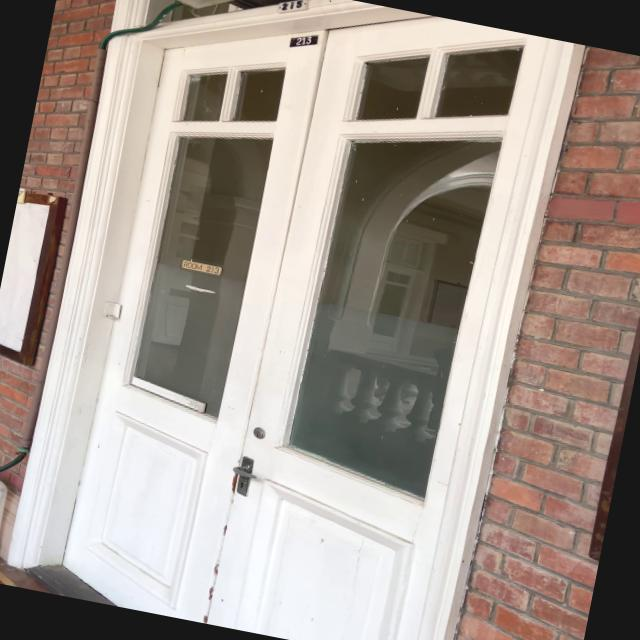room213: (290, 30, 318, 54)
room213Window: (177, 256, 226, 279)
